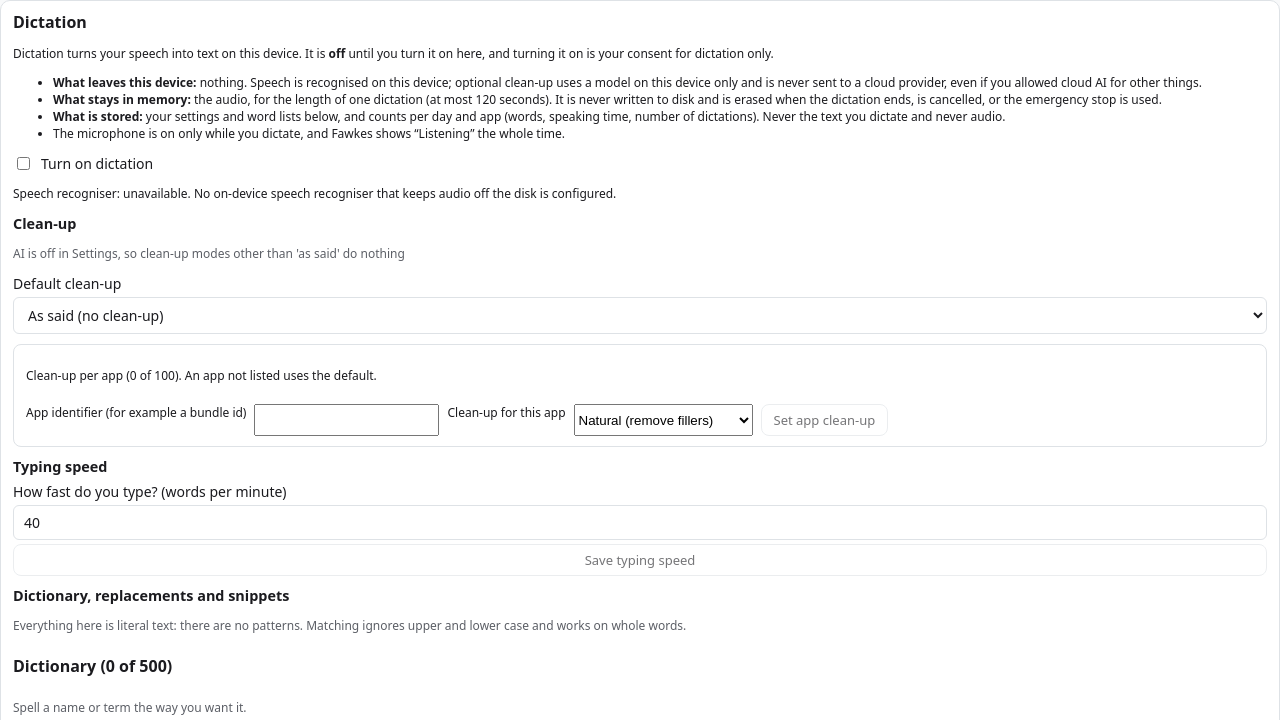
Test case: Settings: Dictation › turning it on posts enabled:true and shows the honest recogniser status
Click the checkbox labelled "Turn on dictation" at [24, 164], box x1=17 y1=157 x2=30 y2=170
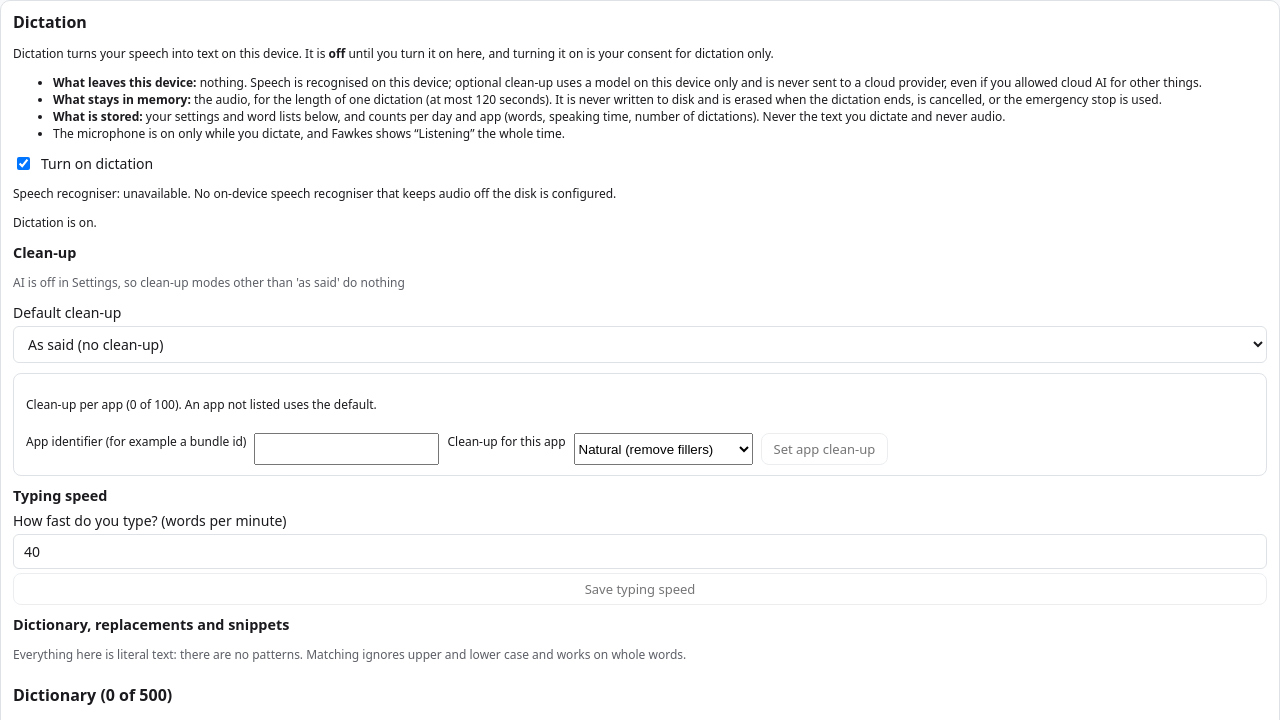
Expected: the text "Speech recogniser: unavailable" is shown, x1=13 y1=185 x2=616 y2=202
Now the text "Dictation is on." is shown, box x1=13 y1=214 x2=97 y2=231
